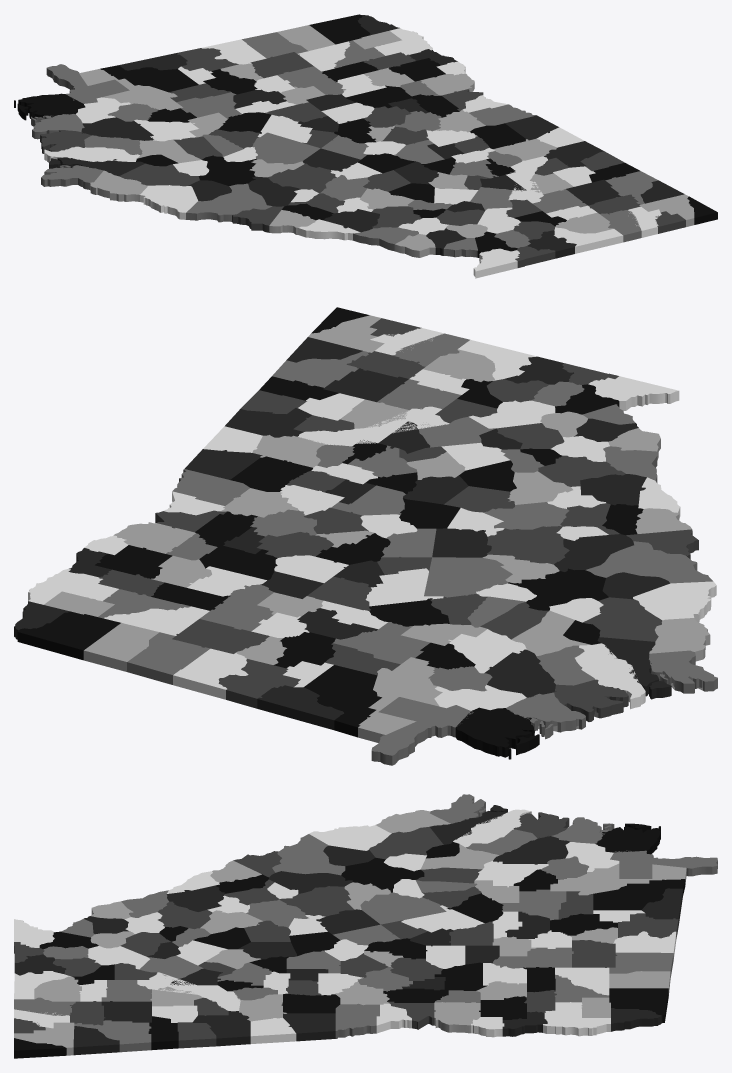
File: Georgia_Counties_3D.fbx
The picture shows the model from 3 angles, top to bottom: view 1: azimuth 30°, elevation 25°; view 2: azimuth 150°, elevation 25°; view 3: azimuth 270°, elevation 25°; orthographic projection. The views are drawn at different scales.
Parts seen in each view (by area): view 1: GA_Burke_County_3D, GA_Ware_County_3D, GA_Charlton_County_3D, GA_Clinch_County_3D, GA_Screven_County_3D, GA_Laurens_County_3D, GA_Camden_County_3D, GA_Emanuel_County_3D, GA_Washington_County_3D, GA_Bulloch_County_3D, GA_Effingham_County_3D, GA_Wayne_County_3D (+120 smaller); view 2: GA_Charlton_County_3D, GA_Ware_County_3D, GA_Camden_County_3D, GA_Clinch_County_3D, GA_Burke_County_3D, GA_Laurens_County_3D, GA_Decatur_County_3D, GA_Screven_County_3D, GA_Emanuel_County_3D, GA_Washington_County_3D, GA_Fulton_County_3D, GA_Thomas_County_3D (+126 smaller); view 3: GA_Ware_County_3D, GA_Charlton_County_3D, GA_Clinch_County_3D, GA_Burke_County_3D, GA_Laurens_County_3D, GA_Early_County_3D, GA_Camden_County_3D, GA_Emanuel_County_3D, GA_Washington_County_3D, GA_Fulton_County_3D, GA_Bulloch_County_3D, GA_Floyd_County_3D (+134 smaller).
Boxes of the visible parts, <box> form: GA_Burke_County_3D: <box>186,183,272,222</box>; GA_Ware_County_3D: <box>79,69,182,110</box>; GA_Charlton_County_3D: <box>46,64,129,103</box>; GA_Clinch_County_3D: <box>100,65,198,92</box>; GA_Screven_County_3D: <box>140,185,197,219</box>; GA_Laurens_County_3D: <box>252,132,320,164</box>; GA_Camden_County_3D: <box>14,93,85,120</box>; GA_Emanuel_County_3D: <box>198,155,256,185</box>; GA_Washington_County_3D: <box>267,163,336,192</box>; GA_Bulloch_County_3D: <box>119,163,199,186</box>; GA_Effingham_County_3D: <box>90,170,147,201</box>; GA_Wayne_County_3D: <box>81,117,153,140</box>; GA_Charlton_County_3D: <box>371,697,473,765</box>; GA_Ware_County_3D: <box>358,657,442,742</box>; GA_Camden_County_3D: <box>455,707,539,759</box>; GA_Clinch_County_3D: <box>304,665,381,737</box>; GA_Burke_County_3D: <box>585,541,712,583</box>; GA_Laurens_County_3D: <box>424,557,512,597</box>; GA_Decatur_County_3D: <box>17,611,120,660</box>; GA_Screven_County_3D: <box>633,581,716,622</box>; GA_Emanuel_County_3D: <box>508,568,608,610</box>; GA_Washington_County_3D: <box>487,526,569,564</box>; GA_Fulton_County_3D: <box>298,406,449,446</box>; GA_Thomas_County_3D: <box>127,632,210,684</box>; GA_Ware_County_3D: <box>550,863,686,895</box>; GA_Charlton_County_3D: <box>610,850,717,878</box>; GA_Clinch_County_3D: <box>593,879,685,910</box>; GA_Burke_County_3D: <box>272,834,345,875</box>; GA_Laurens_County_3D: <box>360,892,446,924</box>; GA_Early_County_3D: <box>543,1002,610,1036</box>; GA_Camden_County_3D: <box>595,823,660,854</box>; GA_Emanuel_County_3D: <box>341,857,424,892</box>; GA_Washington_County_3D: <box>279,886,353,916</box>; GA_Fulton_County_3D: <box>137,972,240,1011</box>; GA_Bulloch_County_3D: <box>369,827,443,859</box>; GA_Floyd_County_3D: <box>74,1020,151,1052</box>.
Bounding box in the file's own units: 697 × 10 × 808.
